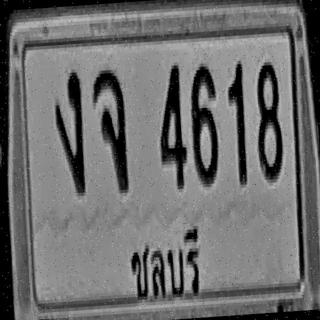A07: (51, 69, 87, 194)
A08: (90, 68, 130, 193)
N01: (225, 61, 250, 185)
N04: (154, 61, 189, 190)
N06: (188, 61, 221, 186)
N08: (252, 58, 285, 180)
P13: (118, 215, 210, 312)
